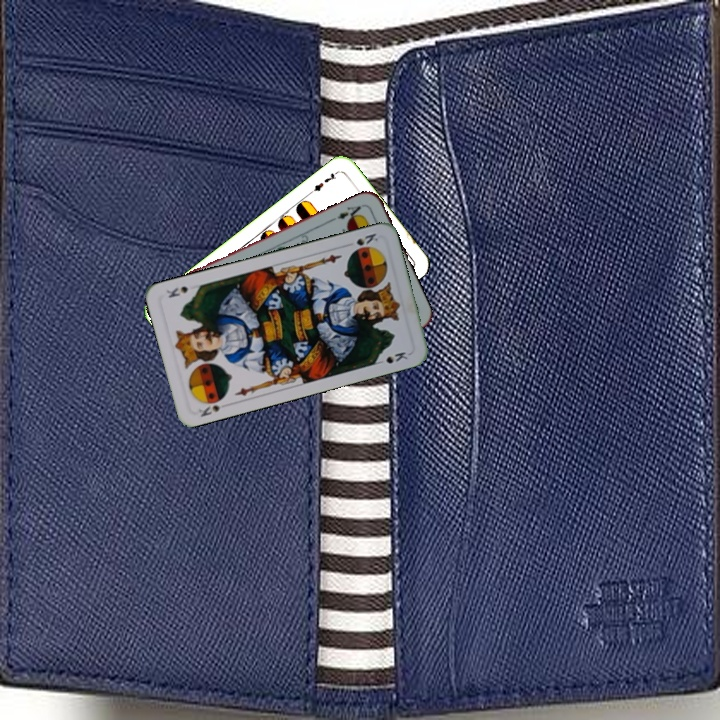E7: (306, 167, 341, 196)
EA: (333, 200, 367, 223)
SK: (194, 399, 232, 420), (352, 229, 381, 248)
